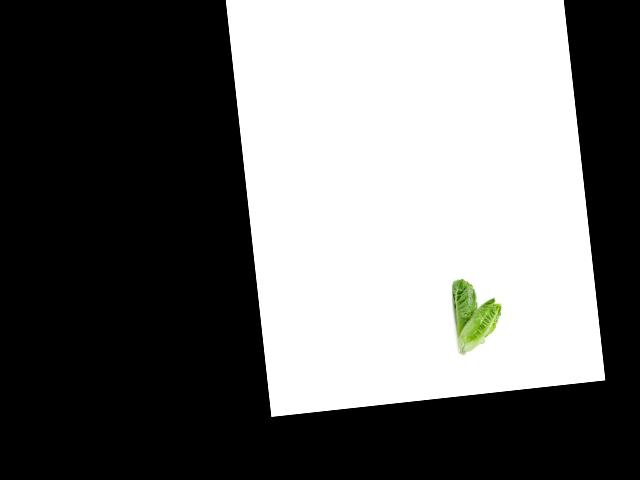lettuce: (445, 272, 482, 340)
